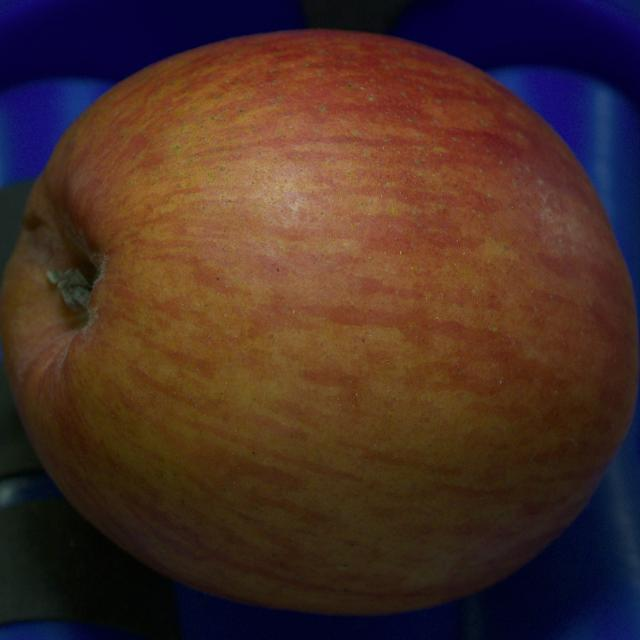apple: (0, 31, 639, 614)
